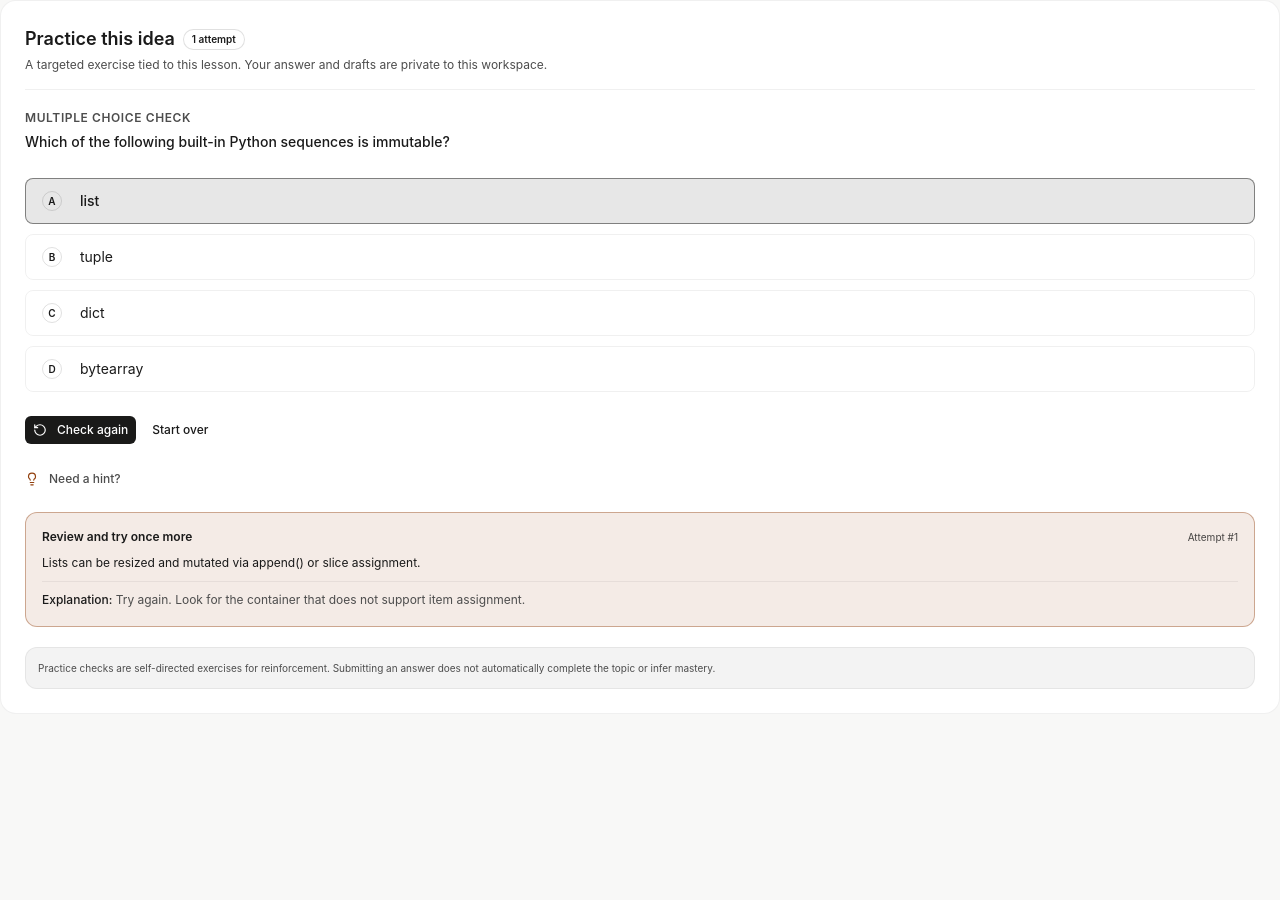
Test case: StudioPracticeActivity › handles retry flow and start over draft reset
Expected: the text "Review and try once more" is shown, [42,529,192,545]
Expected: the text "Lists can be resized and mutated" is shown, [42,555,420,570]
Click "Start over"
Click the button "Start over" at (180, 430), box [144,416,216,444]
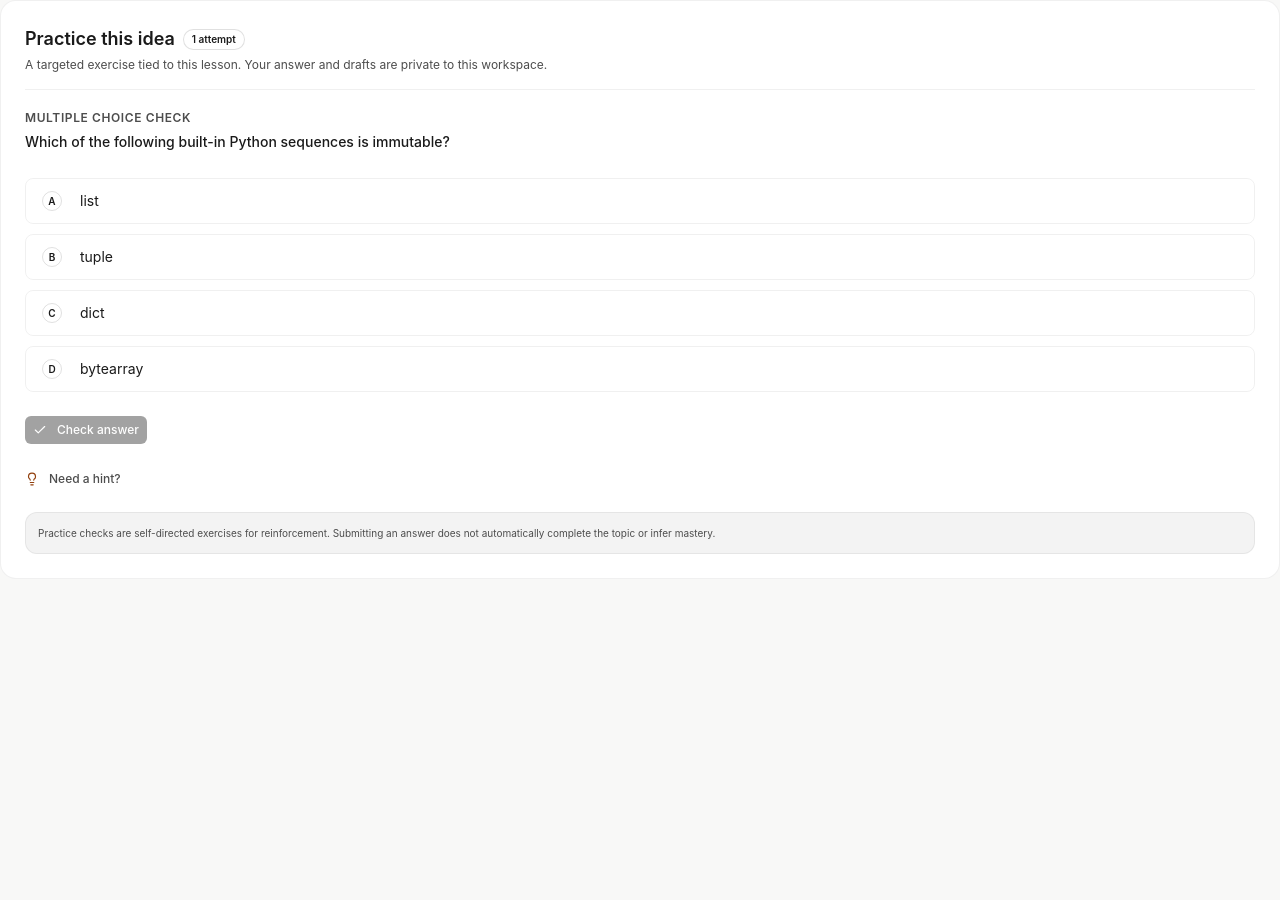
Result: the text "Review and try once more" is gone
